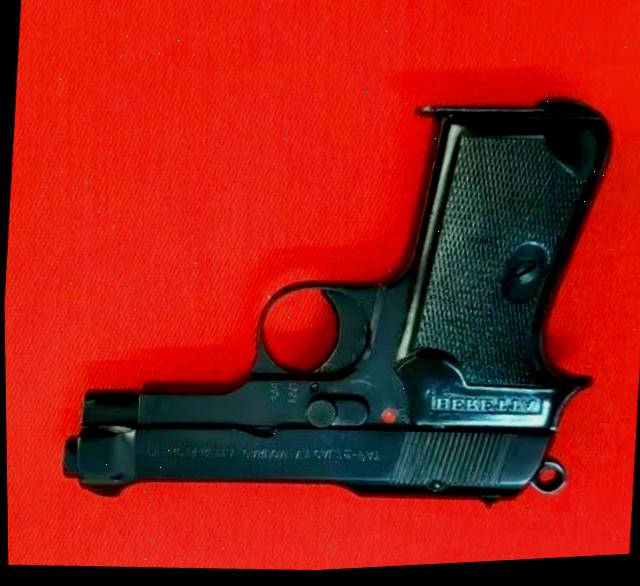pistol: (52, 76, 619, 535)
